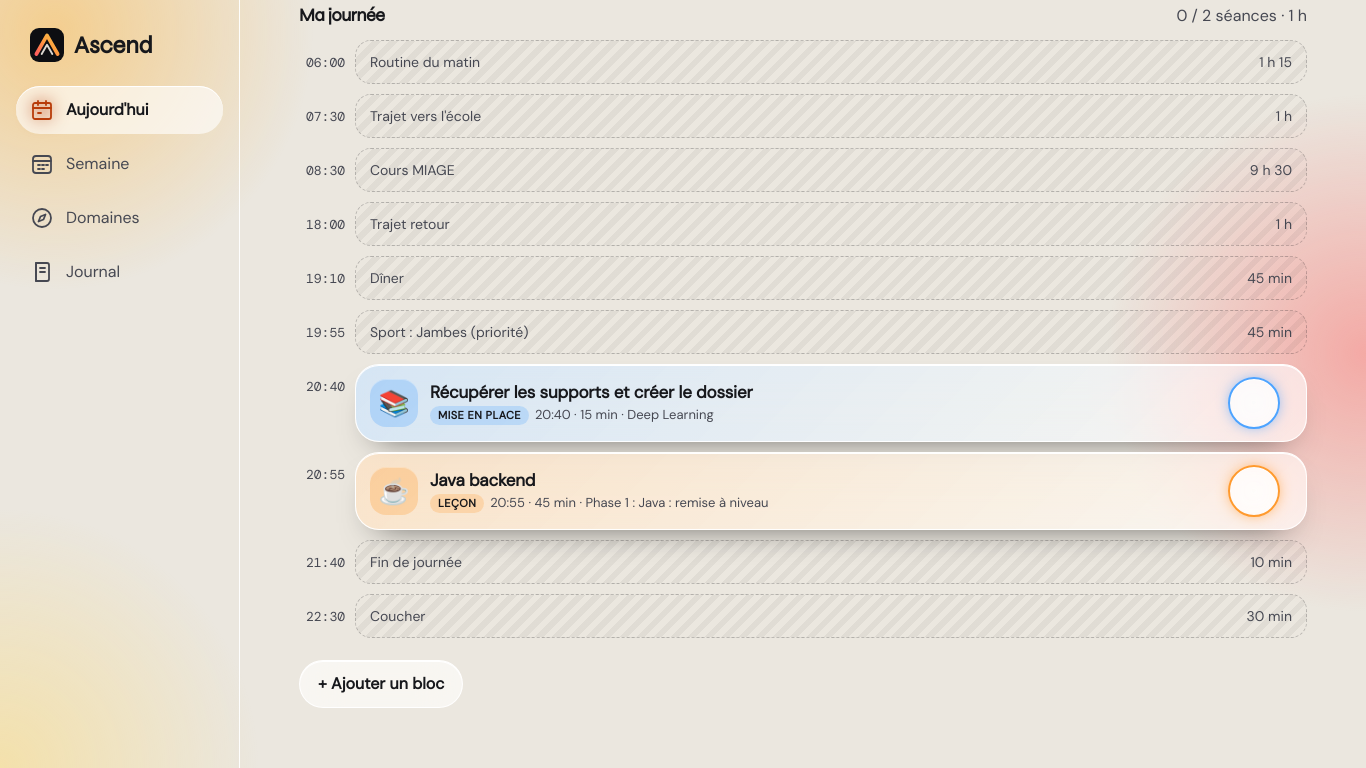
écriture refusée › rétablit la valeur d'avant et prévient (retour arrière)
(page scrolled)
What coordinates should you click on to do the following:
click the checkbox named "Java backend"
I would click on:
 (1254, 492)
Its box is [1228,466,1280,518].
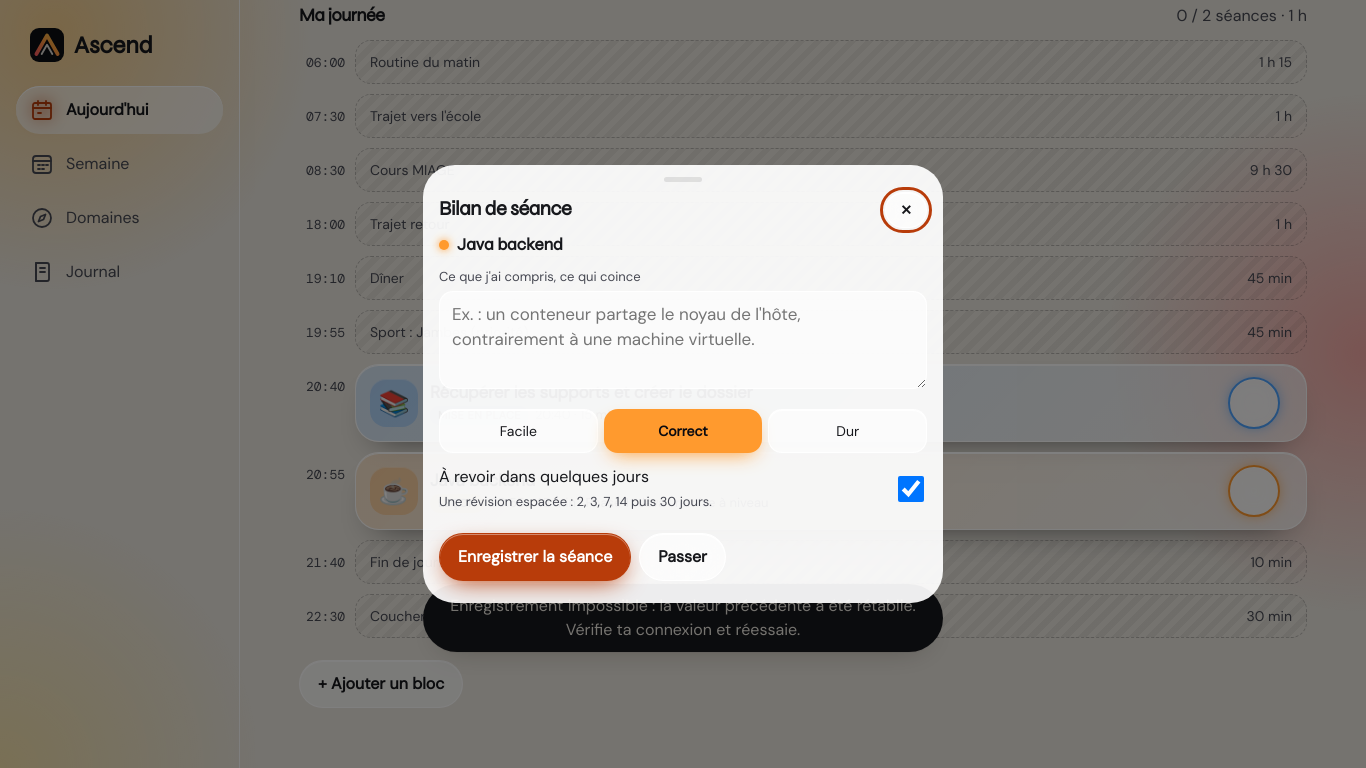
expect the message shows "Enregistrement impossible": met, box [450,595,916,640]
